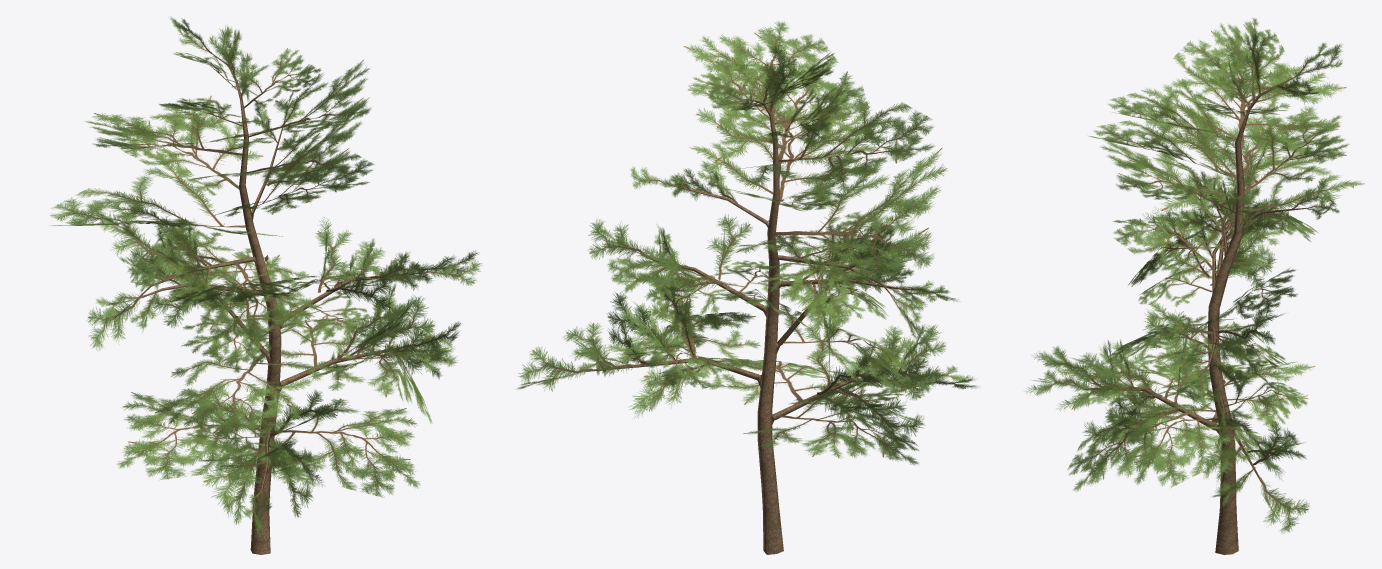
File: pine_pine_small_2_lod2.gltf
3 views of the same model, side by side, from view 1: azimuth 30°, elevation 25°; view 2: azimuth 150°, elevation 25°; view 3: azimuth 270°, elevation 25° (orthographic).
Parts seen in each view (by area): view 1: Pine_small_2_LOD2_Clusters_Mat_0, Pine_small_2_LOD2_Bark_Mat_0; view 2: Pine_small_2_LOD2_Clusters_Mat_0, Pine_small_2_LOD2_Bark_Mat_0; view 3: Pine_small_2_LOD2_Clusters_Mat_0, Pine_small_2_LOD2_Bark_Mat_0.
Boxes of the visible parts, x1,y1,x2,y2 form: Pine_small_2_LOD2_Clusters_Mat_0: (50, 17, 482, 537); Pine_small_2_LOD2_Bark_Mat_0: (141, 53, 406, 554); Pine_small_2_LOD2_Clusters_Mat_0: (516, 21, 977, 465); Pine_small_2_LOD2_Bark_Mat_0: (586, 99, 906, 554); Pine_small_2_LOD2_Clusters_Mat_0: (1025, 17, 1364, 533); Pine_small_2_LOD2_Bark_Mat_0: (1084, 77, 1307, 554).
Bounding box in the file's own units: 3.48 × 4.04 × 2.51.
Materials: 2 (2 with a texture image).
